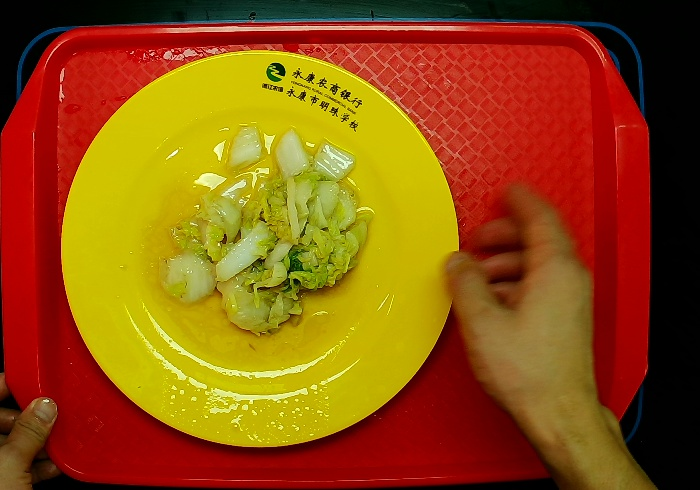YKMZ-Huang_Se_Mian_Pan: (56, 50, 467, 449)
